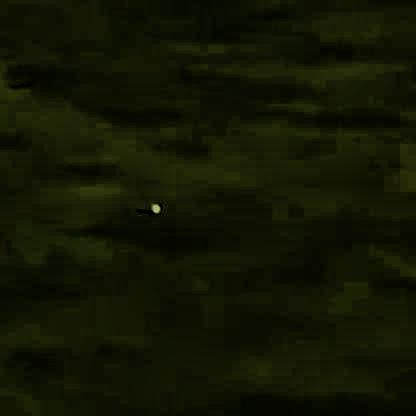golfball: (148, 200, 161, 213)
